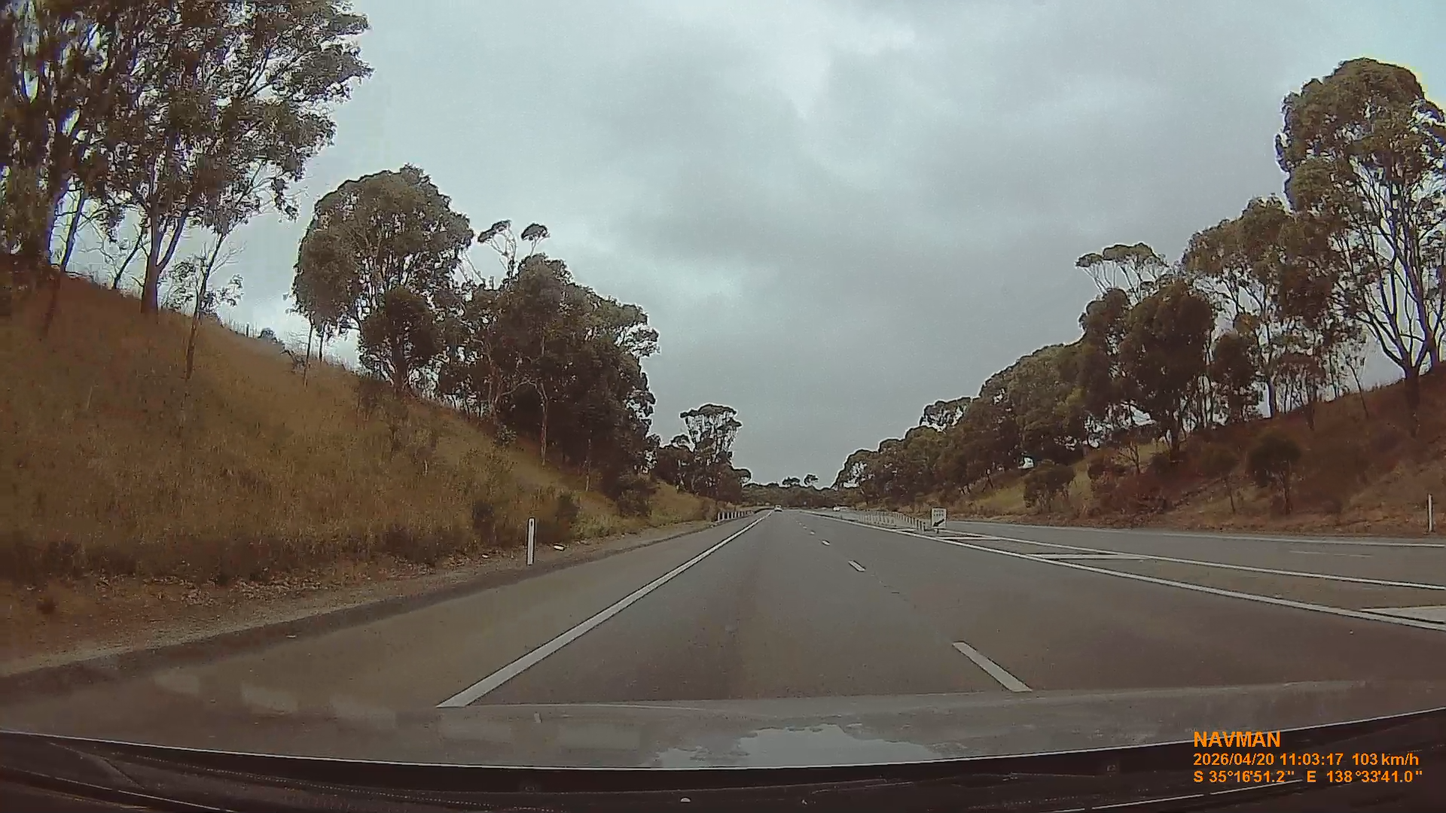fences: (831, 507, 862, 522)
road barriers: (821, 508, 938, 534)
